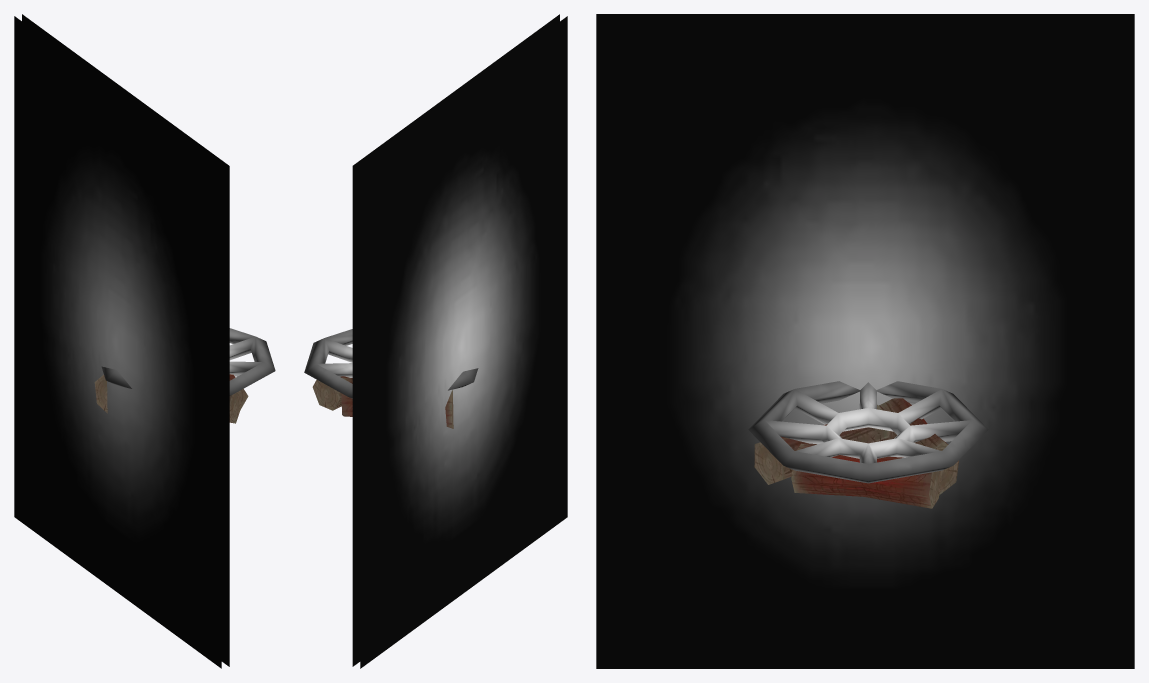
3 renders of one model, left to right at view 1: azimuth 30°, elevation 25°; view 2: azimuth 150°, elevation 25°; view 3: azimuth 270°, elevation 25°, orthographic. The views are drawn at different scales.
Size of the model in its own units: 2.53 by 7.54 by 5.66.
3 materials, 3 textured.
